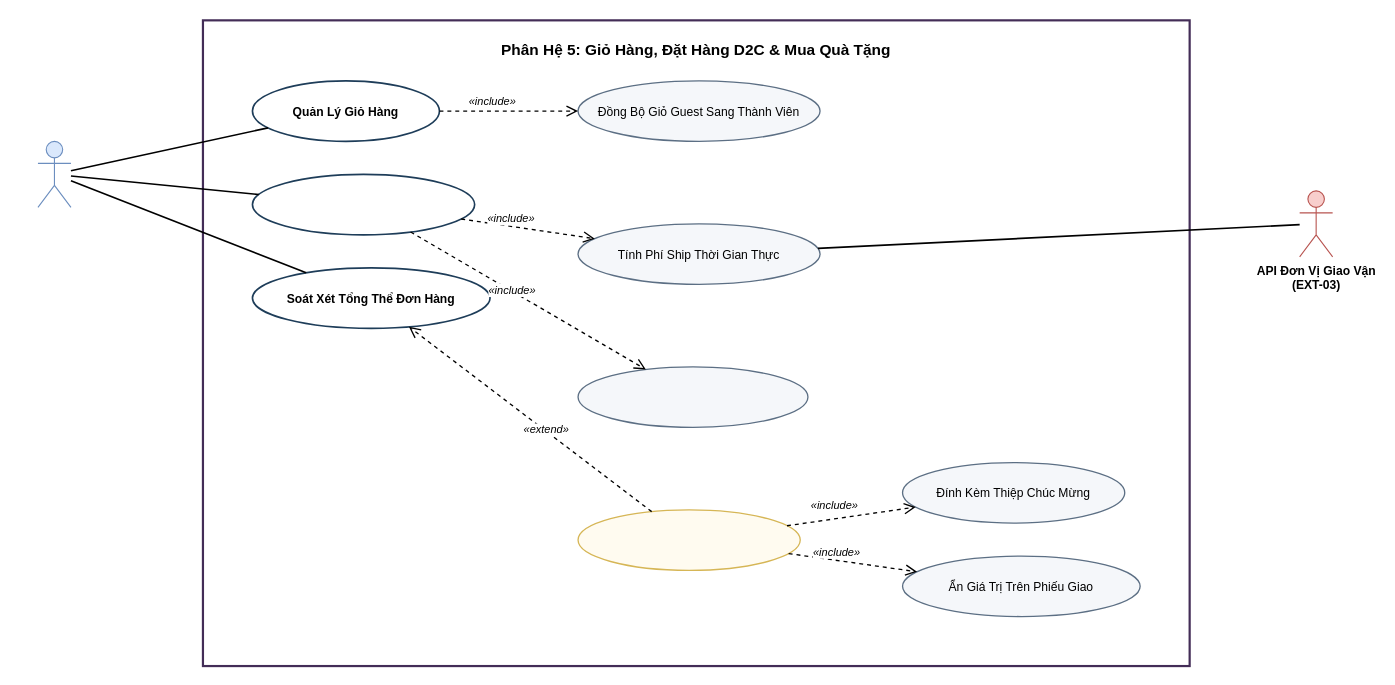
The diagram is 1395 pixels wide and 685 high, and some of its shapes have lost their labels. Here are the shapes that lost their labels. From the top down, the centre of each, then its label:
(x=54, y=173): Khách Hàng (ACT-01, 02)
(x=363, y=204): Điền Thông Tin Giao Nhận
(x=692, y=396): Tạm Giữ Tồn Kho (15 Phút)
(x=688, y=539): Thiết Lập Chế Độ Gửi Quà
